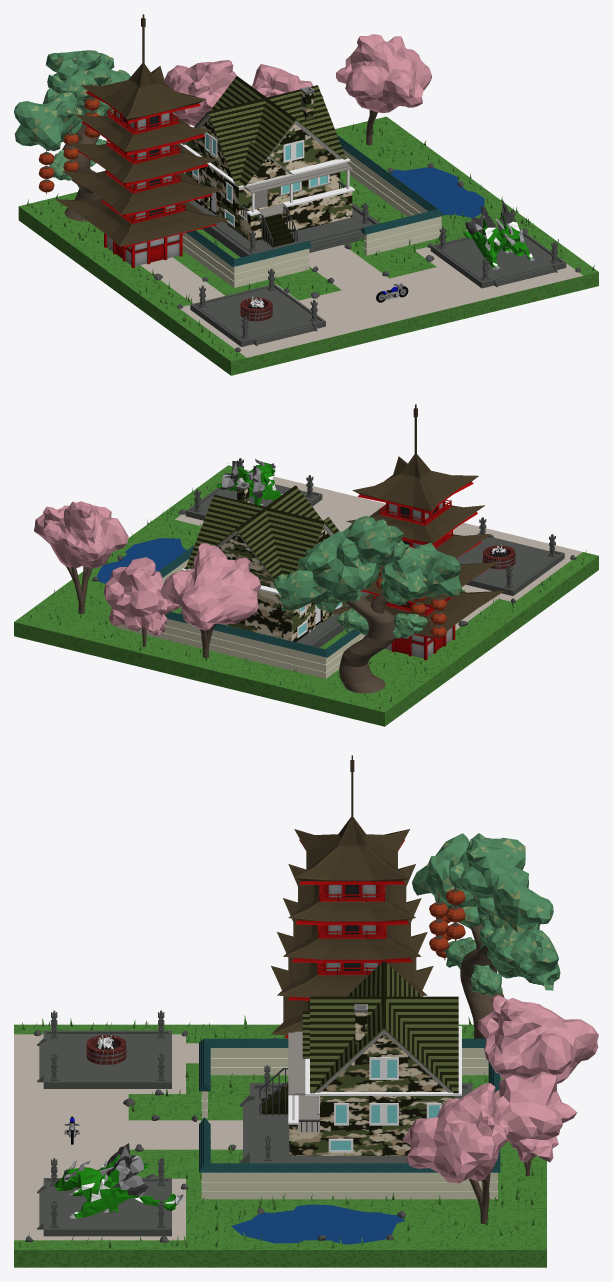
3 renders of one model, top to bottom at view 1: azimuth 30°, elevation 25°; view 2: azimuth 150°, elevation 25°; view 3: azimuth 270°, elevation 25°, orthographic. The views are drawn at different scales.
Visible parts, largest first — view 1: Cube.005, Cube.001, ANIMAL_DRAGON, OBJRANDOM_CAMPFIRE; view 2: Cube.005, Cube.001, ANIMAL_DRAGON, OBJRANDOM_CAMPFIRE; view 3: Cube.005, Cube.001, ANIMAL_DRAGON, OBJRANDOM_CAMPFIRE.
Boxes of the visible parts, left/top/right/bottom form: Cube.005: left=14, top=14, right=598, bottom=375; Cube.001: left=179, top=76, right=354, bottom=248; ANIMAL_DRAGON: left=464, top=201, right=536, bottom=269; OBJRANDOM_CAMPFIRE: left=240, top=296, right=272, bottom=321; Cube.005: left=14, top=404, right=598, bottom=726; Cube.001: left=181, top=482, right=346, bottom=641; ANIMAL_DRAGON: left=216, top=459, right=282, bottom=506; OBJRANDOM_CAMPFIRE: left=482, top=544, right=515, bottom=569; Cube.005: left=14, top=755, right=598, bottom=1267; Cube.001: left=259, top=961, right=461, bottom=1155; ANIMAL_DRAGON: left=54, top=1143, right=183, bottom=1218; OBJRANDOM_CAMPFIRE: left=86, top=1033, right=126, bottom=1064.
Bounding box in the file's own units: 4528 × 2791 × 4389.
Materials: 38 (7 with a texture image).
